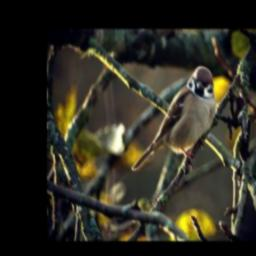Sparrow: (131, 64, 216, 173)
